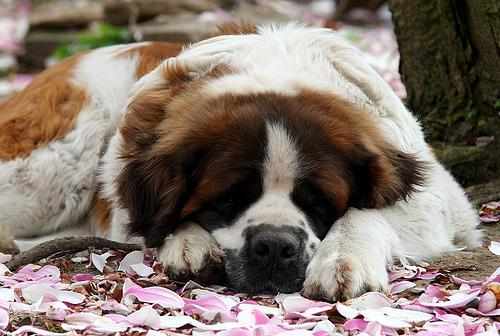dog-saint_bernard: (114, 94, 413, 291)
